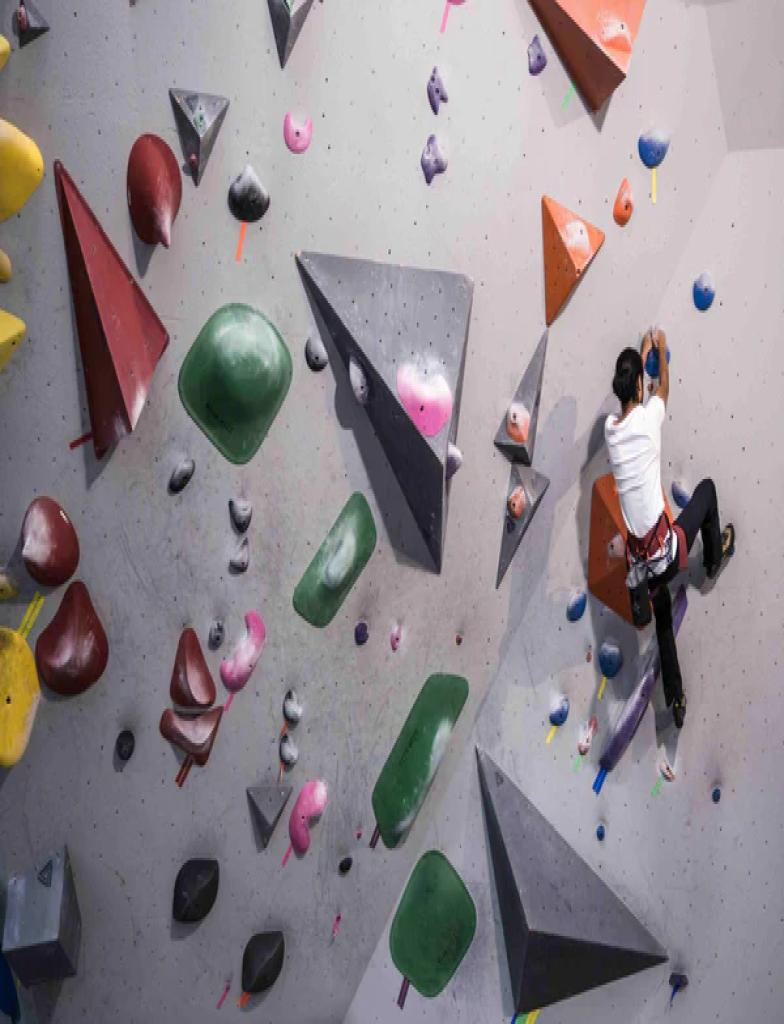jib: (355, 621, 367, 643), (712, 787, 720, 802), (596, 824, 604, 838), (455, 633, 461, 643)
jug: (21, 499, 78, 584), (230, 164, 269, 220), (638, 130, 669, 169), (304, 330, 327, 369), (598, 640, 622, 677), (169, 455, 193, 491), (229, 496, 251, 533), (693, 274, 713, 308), (282, 689, 302, 723), (229, 538, 248, 572), (280, 733, 298, 765), (566, 591, 585, 621), (549, 697, 568, 726), (447, 445, 461, 477)
ledge: (37, 579, 107, 694), (159, 706, 222, 765), (284, 112, 310, 152)
pinch: (220, 613, 264, 694), (421, 134, 447, 181), (427, 66, 447, 112), (389, 621, 404, 650)
sidepull: (600, 635, 660, 770), (170, 626, 216, 711), (172, 858, 218, 921), (242, 931, 284, 990), (672, 587, 686, 633)
sloper: (178, 303, 291, 462), (391, 850, 476, 997), (294, 494, 375, 626), (397, 364, 451, 435)
tape: (20, 591, 43, 635), (174, 754, 196, 790), (235, 220, 247, 264), (592, 766, 609, 797), (561, 80, 576, 110), (440, 0, 452, 35), (69, 430, 91, 447), (223, 689, 237, 715), (650, 776, 665, 798), (369, 825, 381, 852), (281, 844, 293, 870), (596, 674, 608, 699), (545, 725, 559, 744), (278, 719, 289, 741), (651, 168, 657, 206), (573, 753, 583, 773), (278, 762, 287, 779)
undercling: (372, 677, 466, 843), (127, 134, 182, 247), (0, 628, 39, 765), (349, 357, 366, 403)
volume: (295, 252, 472, 572), (476, 748, 664, 1009), (55, 161, 169, 457), (528, 0, 644, 110), (0, 846, 81, 985), (542, 196, 604, 325), (494, 327, 546, 462), (497, 464, 549, 587), (588, 474, 630, 621), (170, 88, 229, 183), (267, 0, 312, 66), (248, 782, 290, 850)
